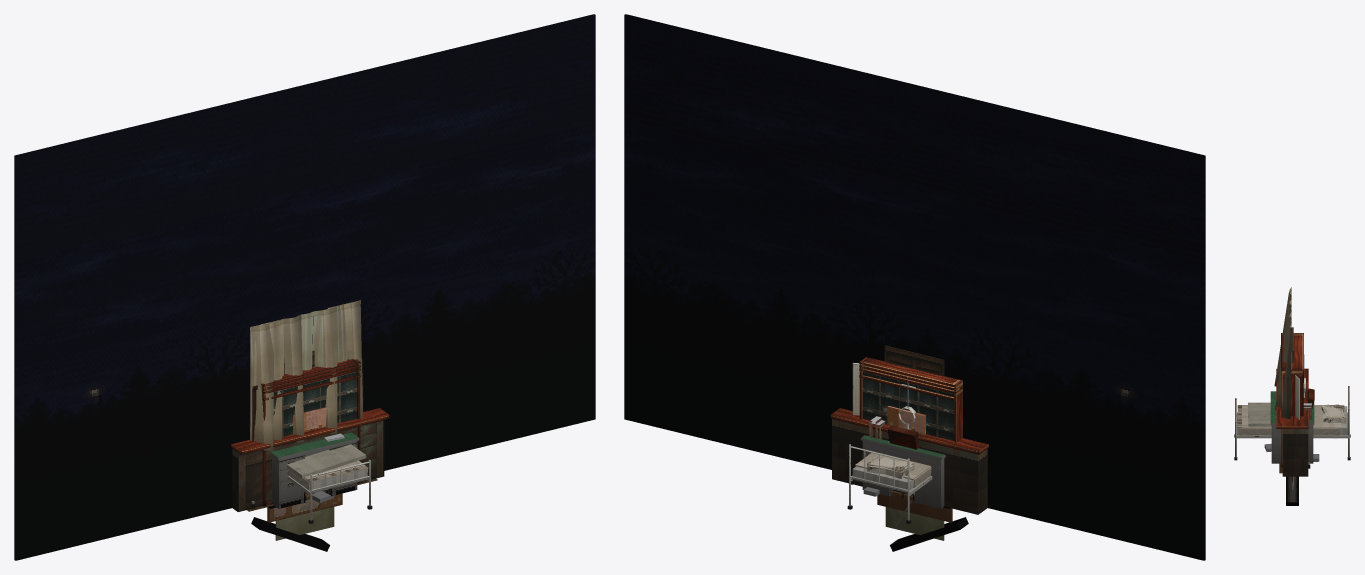
Rendered from entrance.glb.
3 renders of one model, left to right at view 1: azimuth 30°, elevation 25°; view 2: azimuth 150°, elevation 25°; view 3: azimuth 270°, elevation 25°, orthographic. The views are drawn at different scales.
Parts seen in each view (by area): view 1: prop_outside_panel, prop_curtain-closed-2, prop_table-counter-2, prop_shoe_locker-0, prop_curtain-half-2, prop_staffdesk-2, prop_bed-0, prop_curtain-half-1, prop_bed-1, prop_stained_wall-1, prop_notice_board-0, prop_shoe_locker-3 (+1 smaller); view 2: prop_outside_panel, prop_table-counter-2, prop_shoe_locker-0, prop_staffdesk-2, prop_bed-0, prop_stained_wall-1, prop_door-1, prop_notice_board-0, prop_shoe_locker-3, prop_bed-1, prop_light_fixture-1, prop_cardboard_stack-2; view 3: prop_table-counter-2, prop_bed-0, prop_bed-1, prop_shoe_locker-0, prop_staffdesk-2, prop_curtain-closed-2, prop_light_fixture-1, prop_shoe_locker-2, prop_curtain-half-1, prop_curtain-half-2, prop_screen-0.
Part boxes in pixels (x1=…): prop_outside_panel: x1=14, y1=14, x2=595, y2=560; prop_curtain-closed-2: x1=250, y1=300, x2=363, y2=445; prop_table-counter-2: x1=231, y1=408, x2=389, y2=511; prop_shoe_locker-0: x1=261, y1=359, x2=360, y2=506; prop_curtain-half-2: x1=250, y1=300, x2=360, y2=451; prop_staffdesk-2: x1=270, y1=432, x2=359, y2=508; prop_bed-0: x1=287, y1=459, x2=372, y2=523; prop_curtain-half-1: x1=250, y1=301, x2=363, y2=416; prop_bed-1: x1=287, y1=444, x2=366, y2=484; prop_stained_wall-1: x1=275, y1=507, x2=334, y2=540; prop_notice_board-0: x1=267, y1=493, x2=342, y2=522; prop_shoe_locker-3: x1=262, y1=368, x2=360, y2=502; prop_outside_panel: x1=624, y1=14, x2=1205, y2=560; prop_table-counter-2: x1=830, y1=408, x2=988, y2=514; prop_shoe_locker-0: x1=859, y1=357, x2=962, y2=440; prop_staffdesk-2: x1=860, y1=416, x2=945, y2=508; prop_bed-0: x1=847, y1=444, x2=932, y2=523; prop_stained_wall-1: x1=885, y1=507, x2=944, y2=540; prop_door-1: x1=884, y1=345, x2=944, y2=375; prop_notice_board-0: x1=877, y1=494, x2=952, y2=522; prop_shoe_locker-3: x1=859, y1=368, x2=962, y2=442; prop_bed-1: x1=855, y1=453, x2=931, y2=487; prop_light_fixture-1: x1=890, y1=517, x2=968, y2=551; prop_cardboard_stack-2: x1=887, y1=406, x2=925, y2=435; prop_table-counter-2: x1=1276, y1=368, x2=1308, y2=476; prop_bed-0: x1=1234, y1=386, x2=1350, y2=460; prop_bed-1: x1=1248, y1=402, x2=1346, y2=435; prop_shoe_locker-0: x1=1281, y1=333, x2=1303, y2=466; prop_staffdesk-2: x1=1270, y1=391, x2=1314, y2=463; prop_curtain-closed-2: x1=1275, y1=288, x2=1291, y2=417; prop_light_fixture-1: x1=1286, y1=476, x2=1298, y2=505; prop_shoe_locker-2: x1=1281, y1=372, x2=1319, y2=465; prop_curtain-half-1: x1=1284, y1=287, x2=1291, y2=419; prop_curtain-half-2: x1=1274, y1=287, x2=1291, y2=386; prop_screen-0: x1=1295, y1=375, x2=1310, y2=468.
Size of the model in its own units: 9 by 6.94 by 1.96.
Materials: 66 (66 with a texture image).
